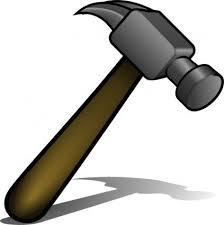hammer: (0, 0, 223, 224)
